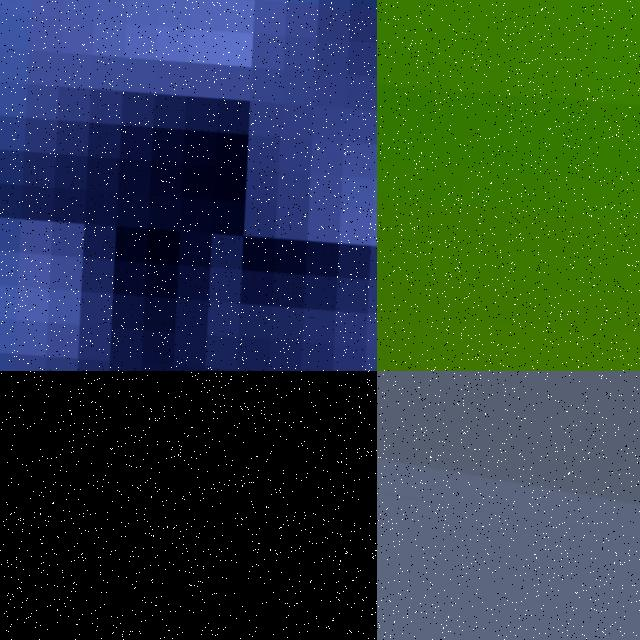0: (0, 0, 377, 371)
drone: (377, 0, 640, 371)
